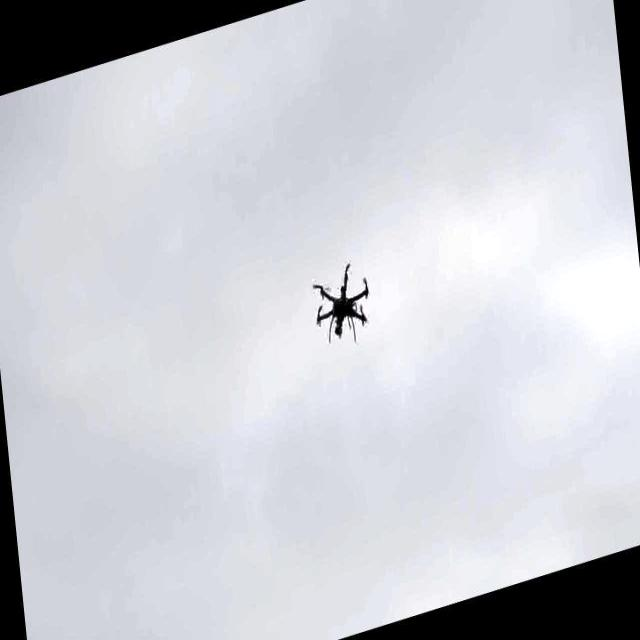drone: (305, 254, 373, 352)
